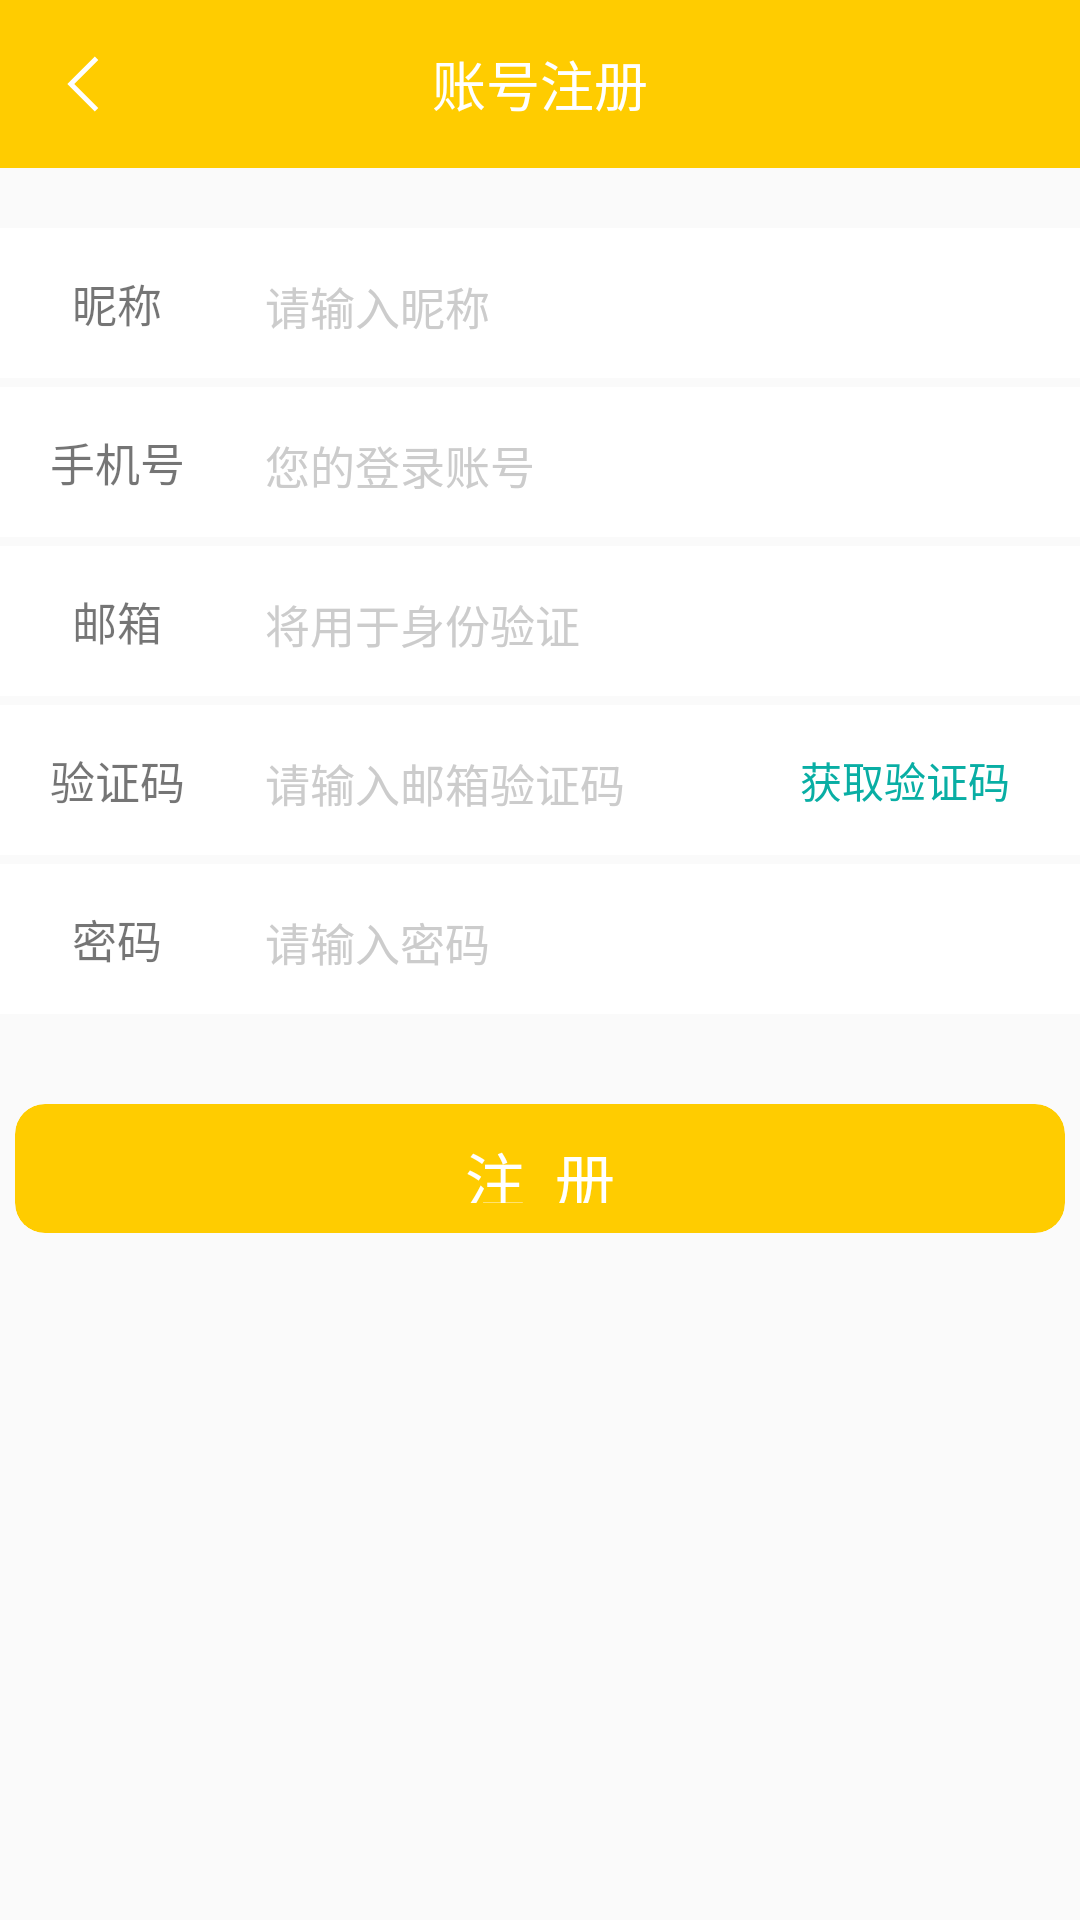

Named icons in this screenshot (1080 × 1920) and their centers, point (x, y):
icback: point (82, 84)
